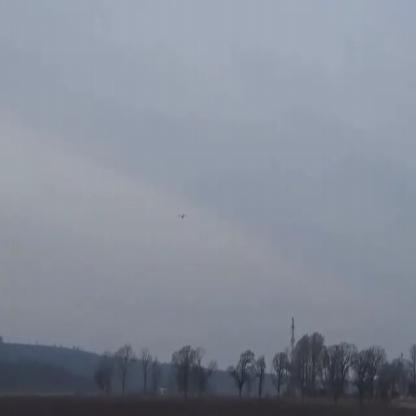CIV_Plane: (178, 208, 190, 222)
